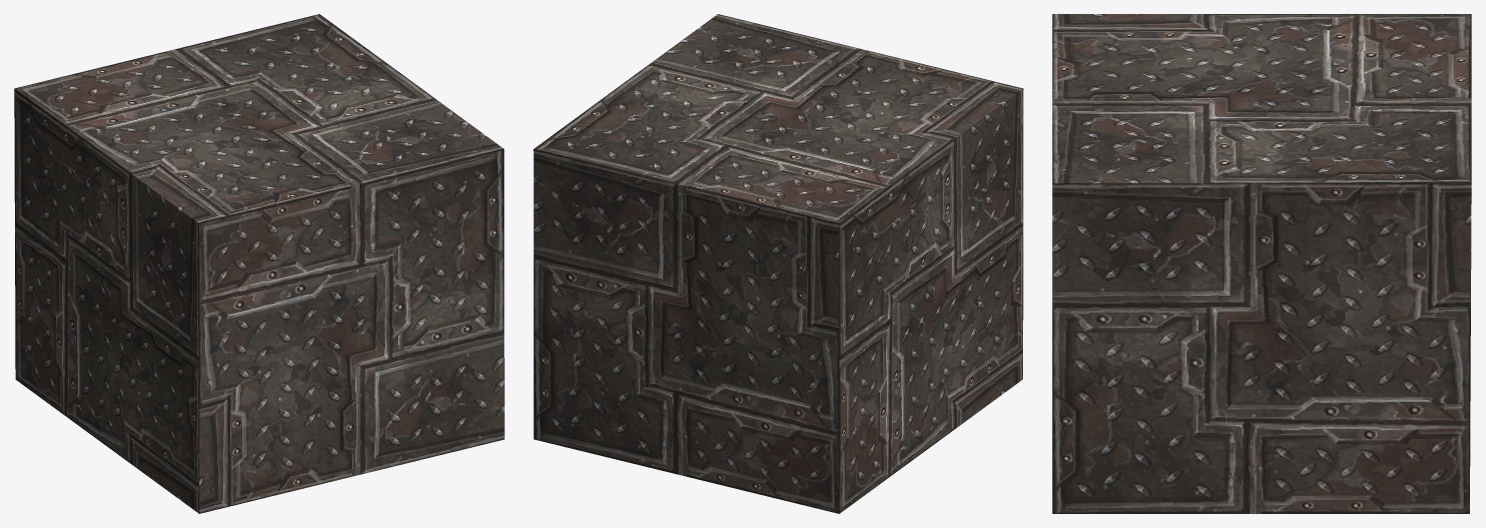
File: wg_siege01_pvp_set0.obj
The picture shows the model from 3 angles, left to right: view 1: azimuth 30°, elevation 25°; view 2: azimuth 150°, elevation 25°; view 3: azimuth 270°, elevation 25°; orthographic projection. The views are drawn at different scales.
Parts seen in each view (by area): view 1: wg_siege01_pvp_set0; view 2: wg_siege01_pvp_set0; view 3: wg_siege01_pvp_set0.
Part boxes in pixels (x1,y1,x2,y2): wg_siege01_pvp_set0: (14, 14, 504, 513); wg_siege01_pvp_set0: (533, 14, 1023, 513); wg_siege01_pvp_set0: (1052, 14, 1471, 513).
Bounding box in the file's own units: 6.16 × 5.6 × 6.44.
1 material, 1 textured.
